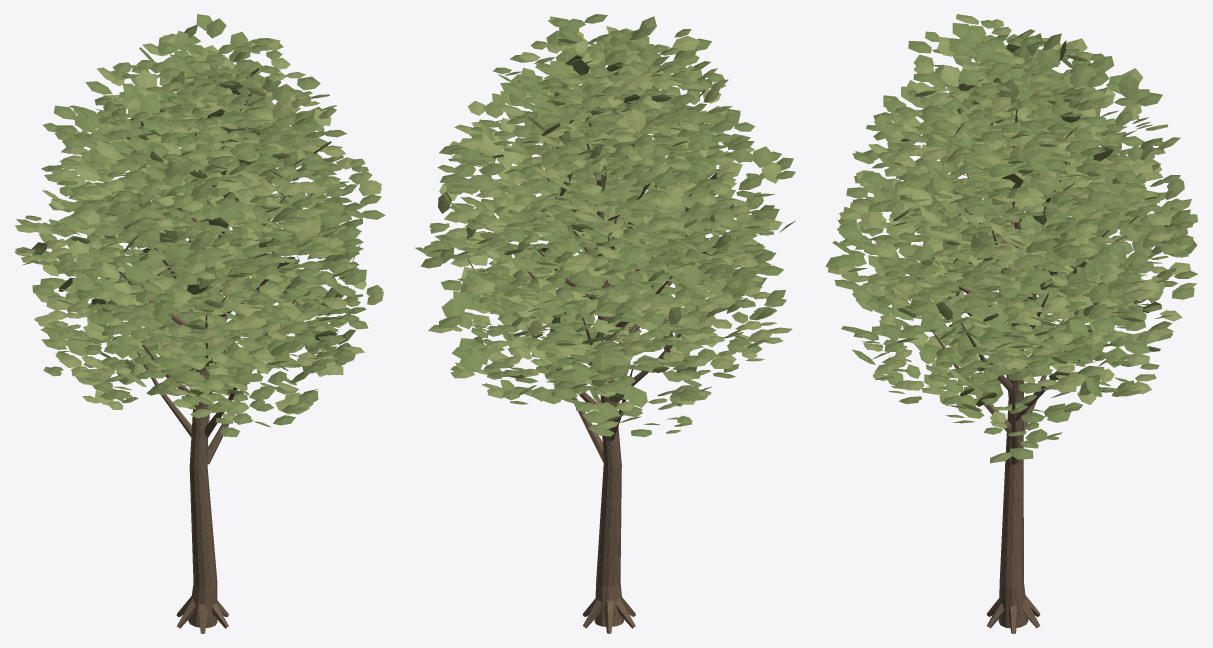
File: Tree1.fbx
3 views of the same model, side by side, from view 1: azimuth 30°, elevation 25°; view 2: azimuth 150°, elevation 25°; view 3: azimuth 270°, elevation 25° (orthographic).
Parts seen in each view (by area): view 1: Tree1_LOD0; view 2: Tree1_LOD0; view 3: Tree1_LOD0.
Boxes of the visible parts, left/top/right/bottom form: Tree1_LOD0: left=14, top=14, right=385, bottom=633; Tree1_LOD0: left=415, top=14, right=795, bottom=633; Tree1_LOD0: left=825, top=14, right=1197, bottom=633.
Size of what is drawn, in the model's own units: 430 by 756 by 428.
1 material, 1 textured.
